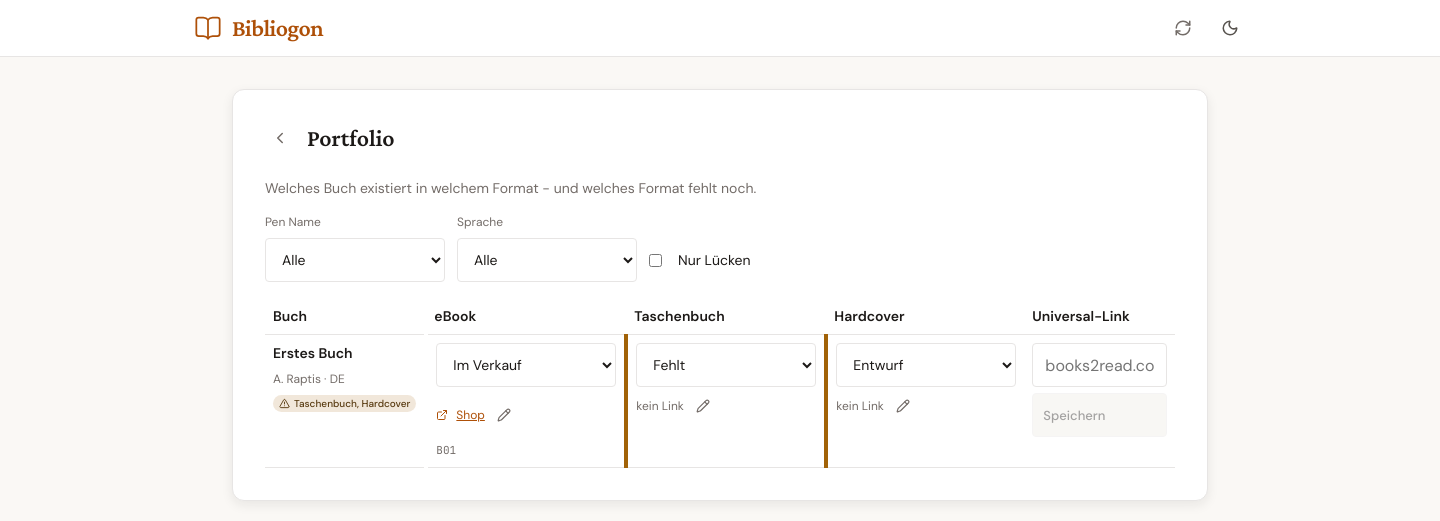
Test: PortfolioBoardPage › distinguishes 'no matches' from 'nothing seeded' once a filter is active
This screenshot has width=1440, height=521.
Check: the table with test id "portfolio-board-matrix" is shown, box top-left (265, 298), bottom-right (1175, 468)
Click the checkbox with test id "portfolio-board-filter-gaps" at (656, 260), box top-left (649, 254), bottom-right (662, 266)
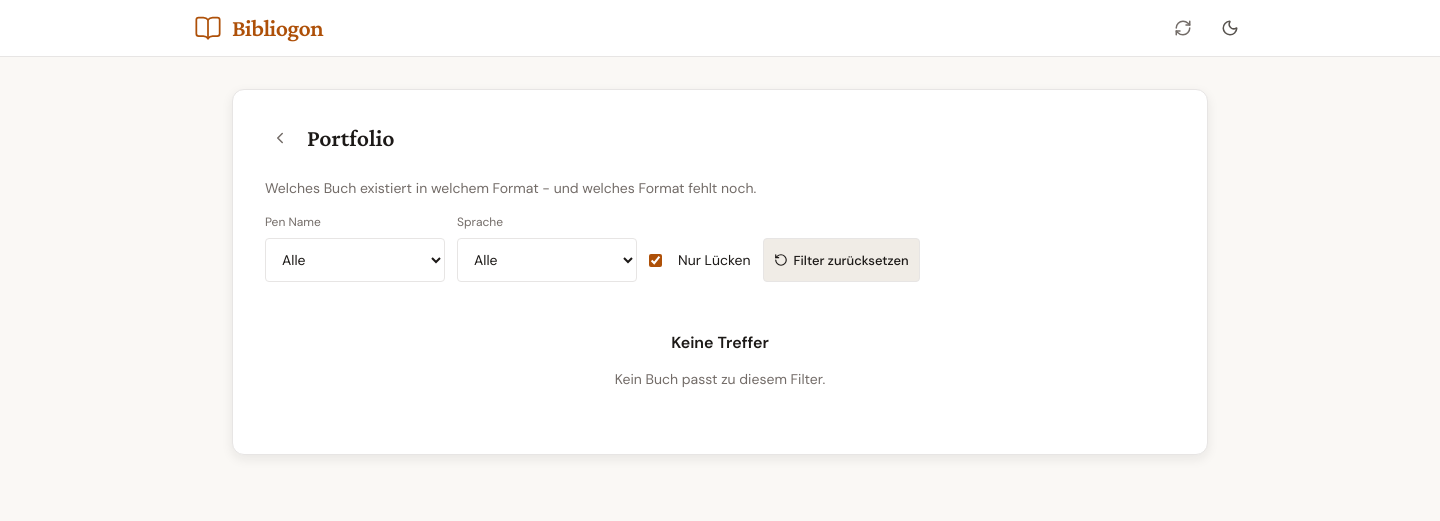
Check: the element with test id "portfolio-board-no-matches" is shown, box top-left (615, 332), bottom-right (825, 388)
